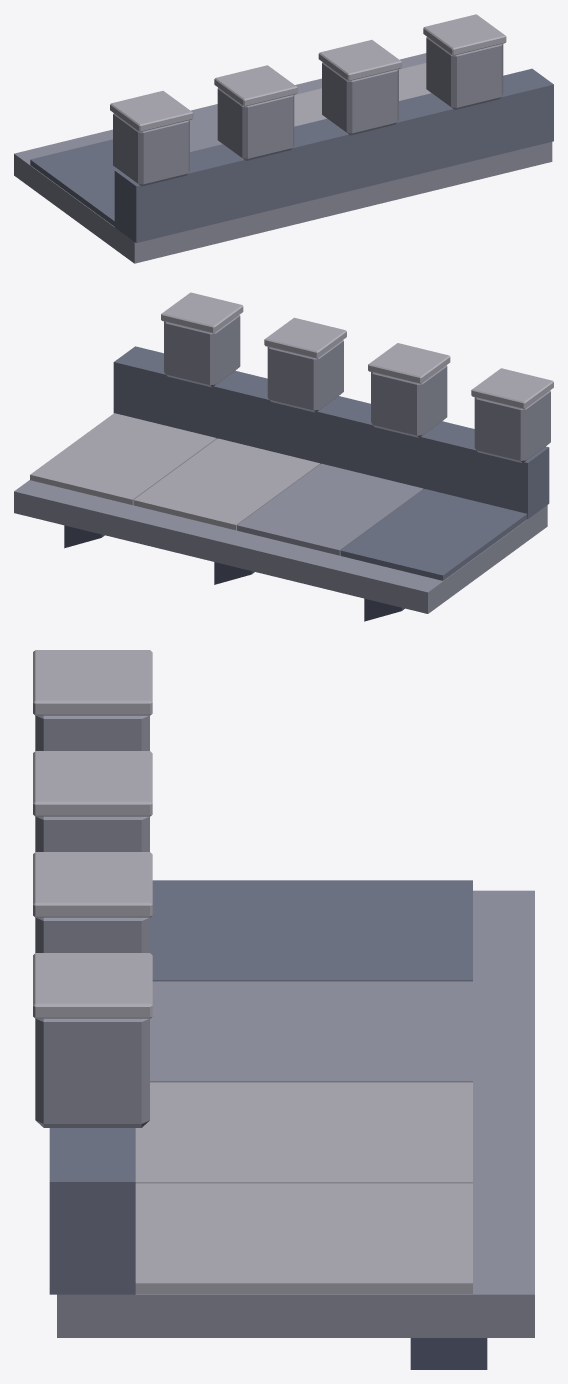
Rendered from EG_Adarve_4m.fbx.
The picture shows the model from 3 angles, top to bottom: view 1: azimuth 30°, elevation 25°; view 2: azimuth 150°, elevation 25°; view 3: azimuth 270°, elevation 25°; orthographic projection. The views are drawn at different scales.
Visible parts, largest first — view 1: EG_Adarve_4m; view 2: EG_Adarve_4m; view 3: EG_Adarve_4m.
Boxes of the visible parts, left/top/right/bottom form: EG_Adarve_4m: left=14, top=14, right=553, bottom=263; EG_Adarve_4m: left=14, top=292, right=553, bottom=621; EG_Adarve_4m: left=33, top=650, right=534, bottom=1369.
Bounding box in the file's own units: 4.01 × 1.63 × 2.1.
1 material, 1 textured.
